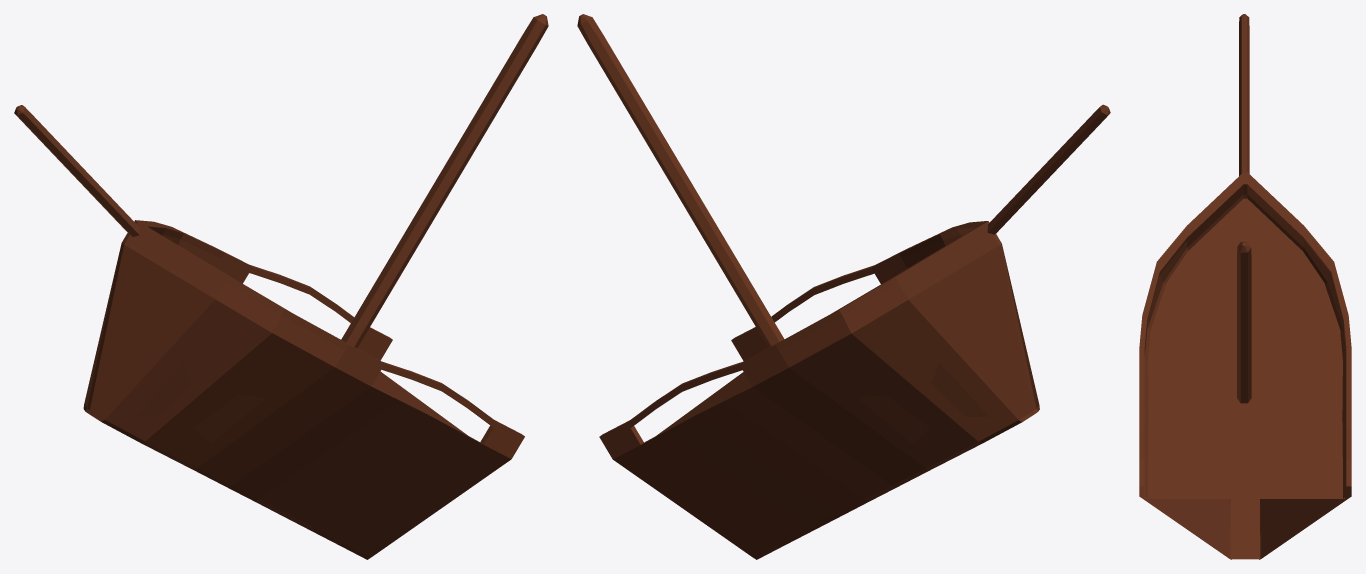
Rendered from ShipWreck(FrontHalf).fbx.
3 renders of one model, left to right at view 1: azimuth 30°, elevation 25°; view 2: azimuth 150°, elevation 25°; view 3: azimuth 270°, elevation 25°, orthographic. The views are drawn at different scales.
Visible parts, largest first — view 1: Grid.001; view 2: Grid.001; view 3: Grid.001.
Part boxes in pixels (x1=…): Grid.001: x1=14, y1=14, x2=548, y2=559; Grid.001: x1=577, y1=14, x2=1110, y2=559; Grid.001: x1=1139, y1=14, x2=1351, y2=559.
Size of the model in its own units: 2494 by 2381 by 1103.
